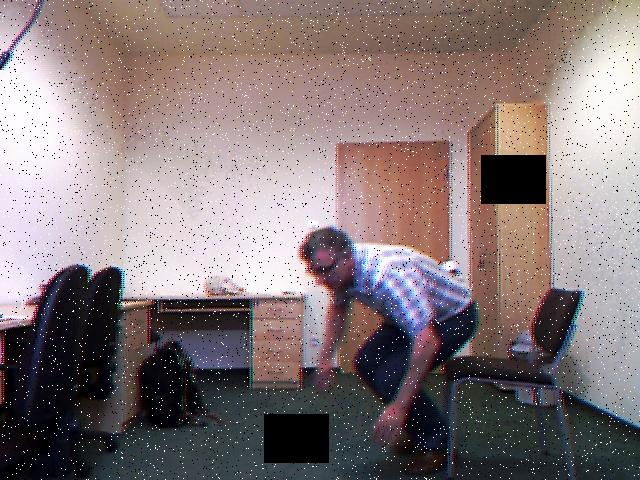near-fall: (278, 208, 493, 480)
